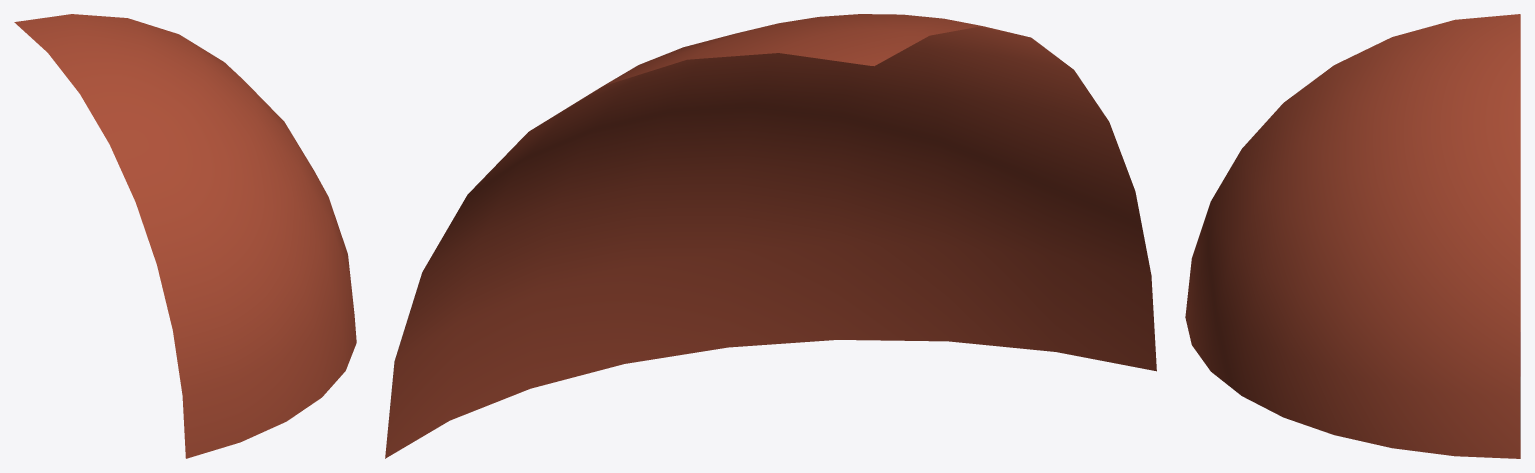
File: r4c1_face_brown.gltf
3 renders of one model, left to right at view 1: azimuth 30°, elevation 25°; view 2: azimuth 150°, elevation 25°; view 3: azimuth 270°, elevation 25°, orthographic. The views are drawn at different scales.
Visible parts, largest first — view 1: r4c1_face_brown; view 2: r4c1_face_brown; view 3: r4c1_face_brown.
Part boxes in pixels (x1=…): r4c1_face_brown: x1=14, y1=14, x2=356, y2=458; r4c1_face_brown: x1=385, y1=14, x2=1156, y2=458; r4c1_face_brown: x1=1185, y1=14, x2=1520, y2=458.
Size of the model in its own units: 2 by 2 by 2.
1 material, 1 textured.
